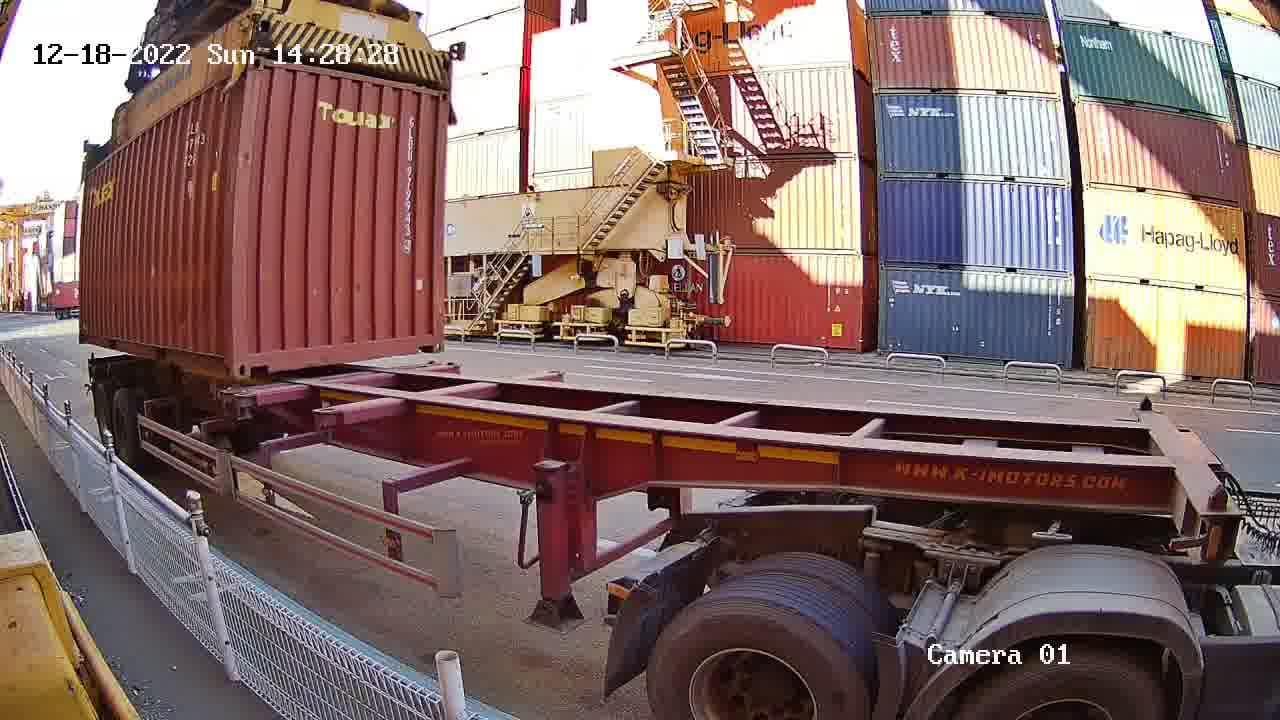Chassis: (241, 362, 460, 409), (219, 360, 440, 395)
Cone: (230, 388, 258, 422), (216, 385, 238, 413)
Hole_L: (233, 341, 272, 377)
Hole_R: (205, 344, 235, 378), (415, 327, 447, 353)
Tire: (645, 598, 864, 714), (965, 659, 1163, 715), (112, 392, 136, 459), (95, 384, 110, 428)
